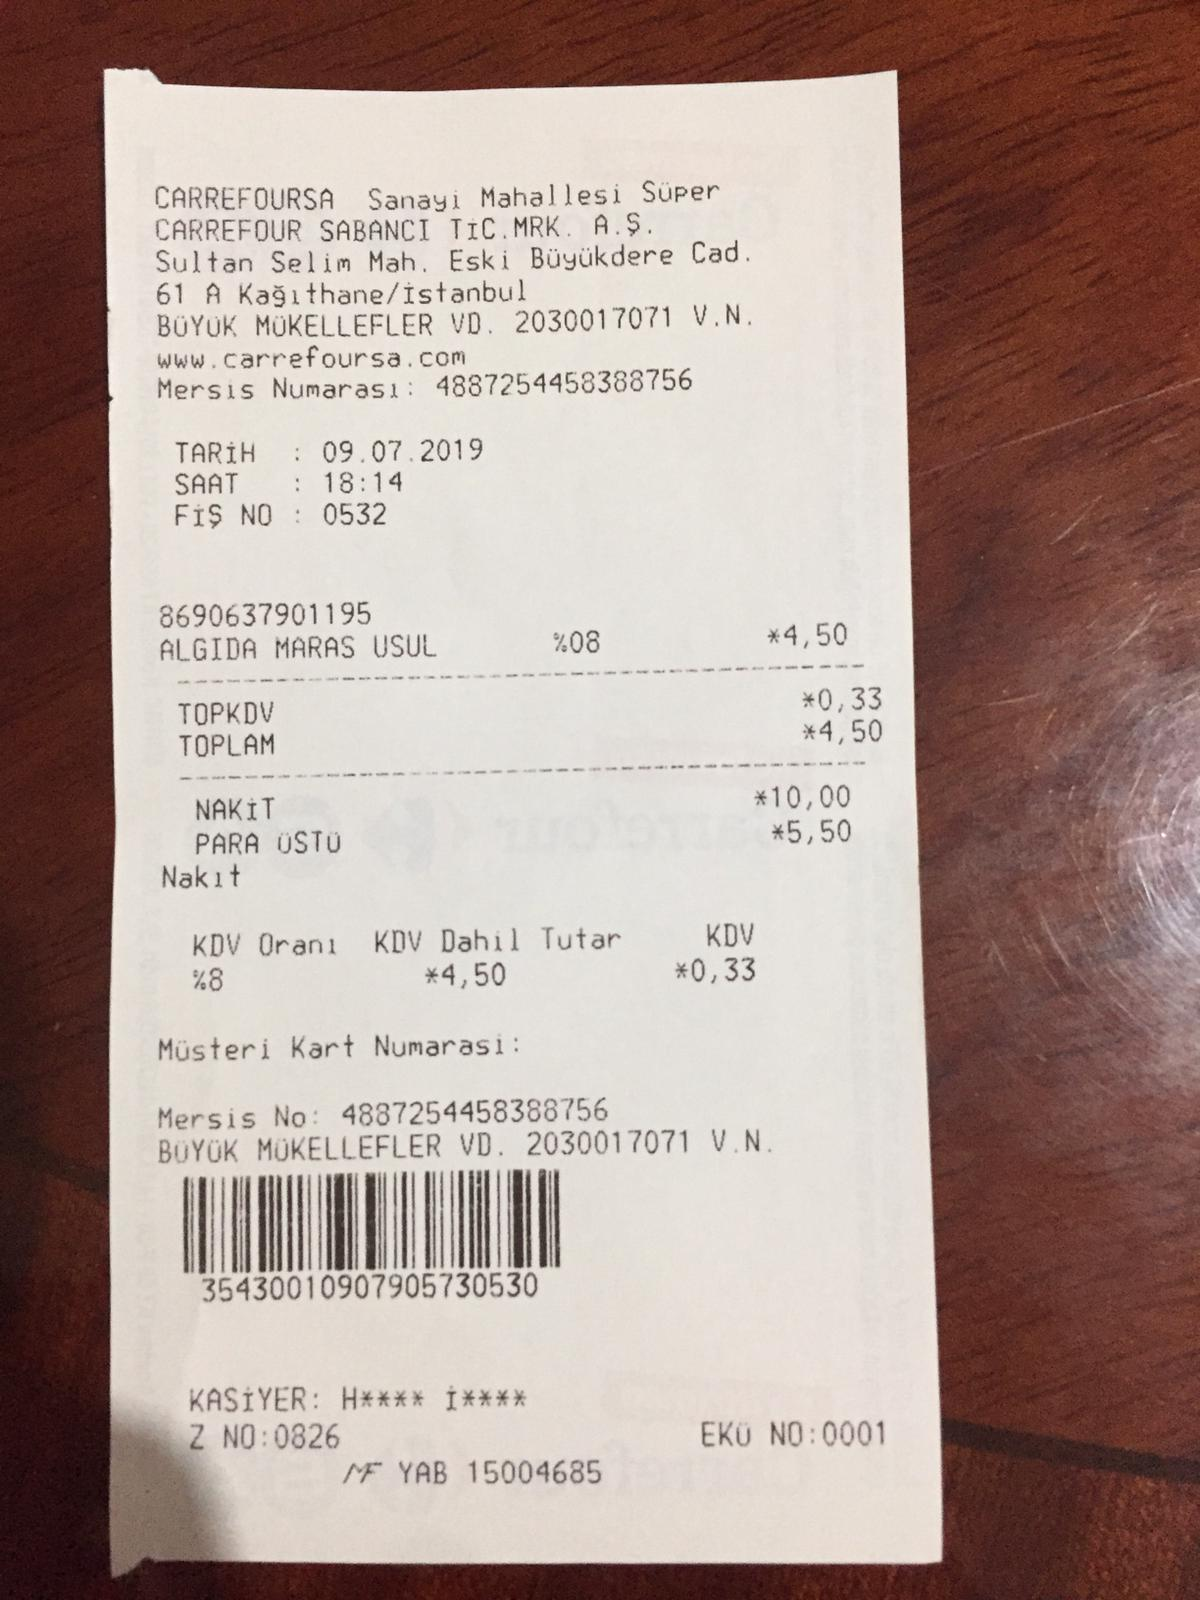total: (174, 720, 899, 764)
